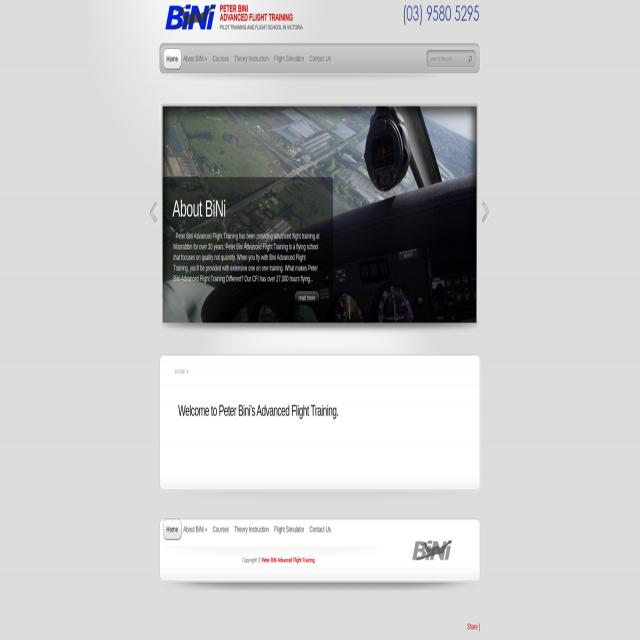button: (162, 102, 480, 323), (162, 0, 306, 36), (410, 533, 455, 568), (231, 519, 269, 539), (231, 48, 269, 68), (271, 519, 305, 539), (271, 48, 305, 68), (182, 519, 208, 539), (306, 519, 332, 539), (182, 48, 208, 68), (306, 48, 332, 68), (294, 291, 320, 307), (209, 519, 229, 539), (209, 48, 229, 68), (163, 519, 181, 539), (163, 48, 181, 68), (150, 202, 158, 224), (482, 202, 490, 224), (465, 55, 473, 63)
field: (427, 50, 475, 67)
